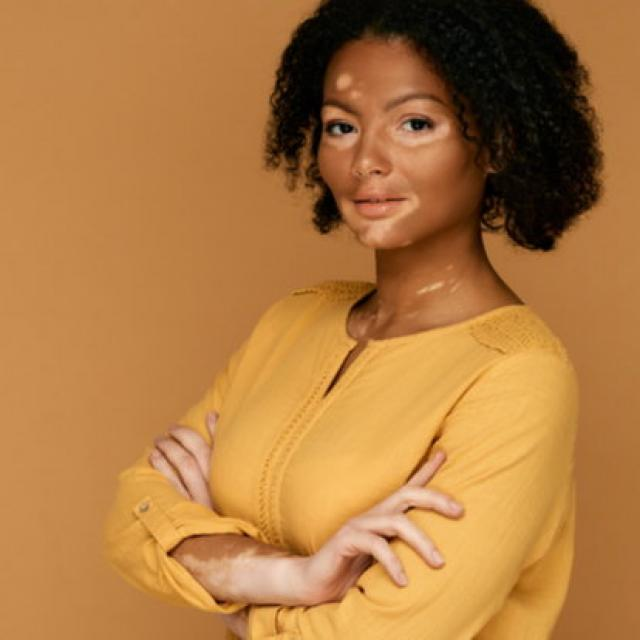vitiligo: (320, 59, 452, 236)
